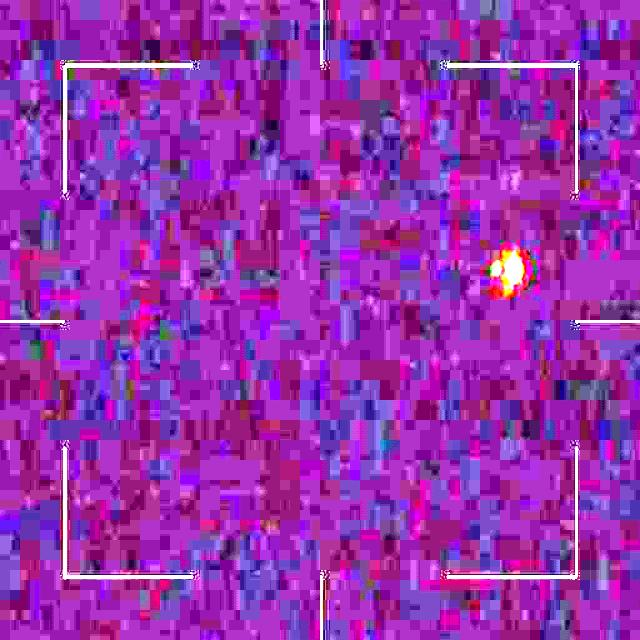bird: (490, 246, 528, 295)
